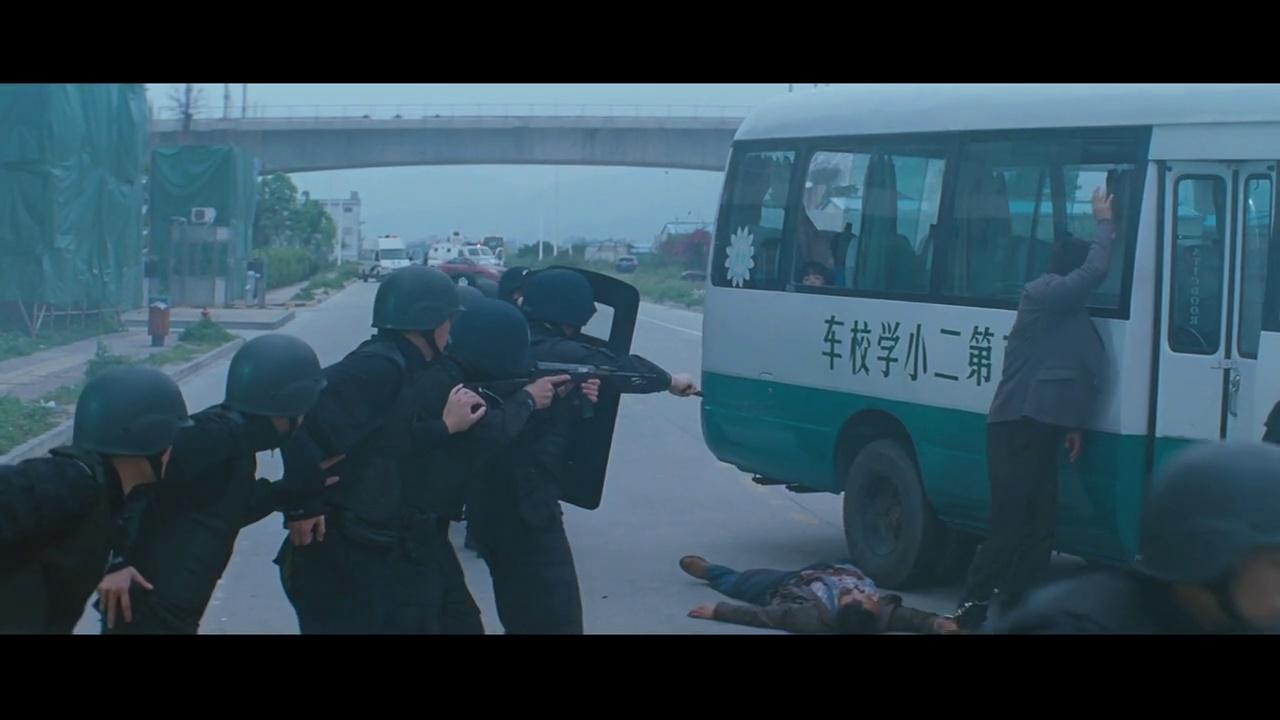gun: (472, 348, 676, 419)
